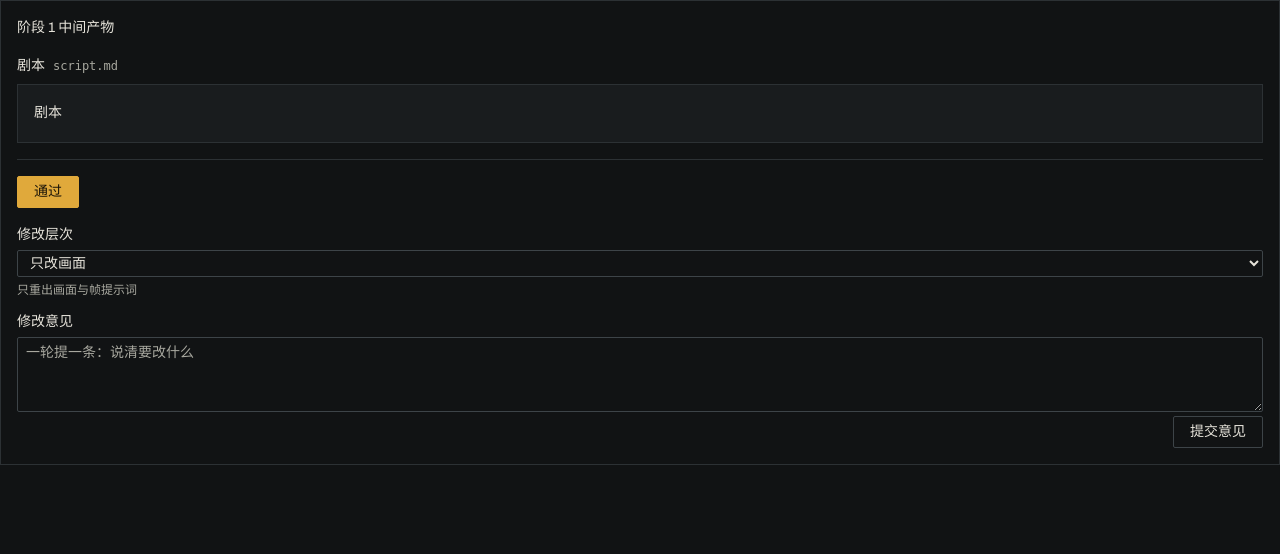
Scenario: ReviewTab 通过与提意见（D4-AC9） › 服务端 422 的 detail 原样呈现（后端仍是权威）
Click the button "通过": (48, 192) [17, 176, 79, 208]
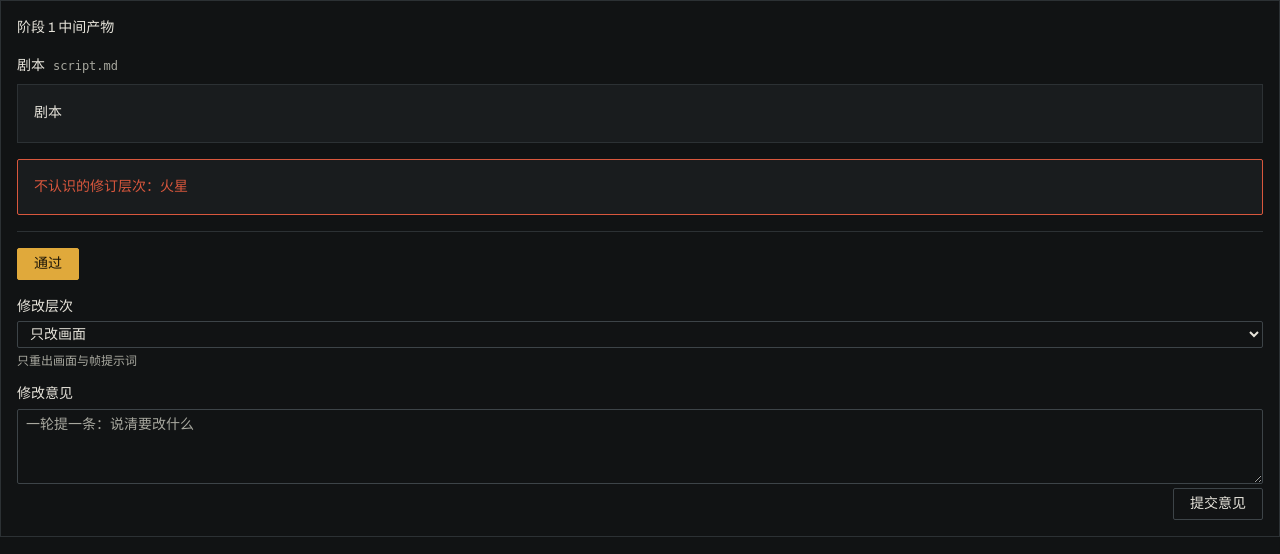
Result: the message "不认识的修订层次：火星" is shown at [17, 159, 1263, 215]
